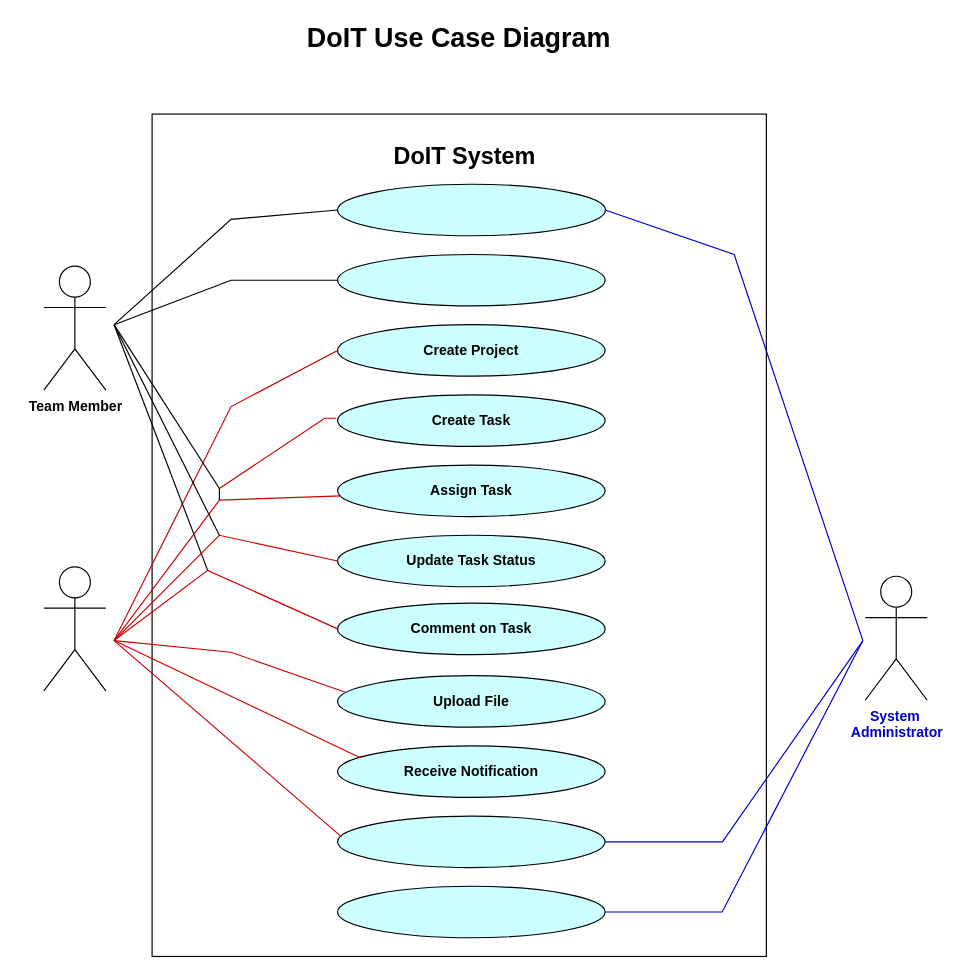
The diagram is 963 pixels wide and 977 high, and some of its shapes have lost their labels. The shapes that lost their labels are listed below. From the top down, each one's centre as x and y in pixels, then its label:
At point 470,209: "Register / Log In".
At point 470,279: "View Dashboard".
At point 74,628: "Project Manager".
At point 470,841: "Manage Team Members".
At point 470,911: "Manage User Permissions".
